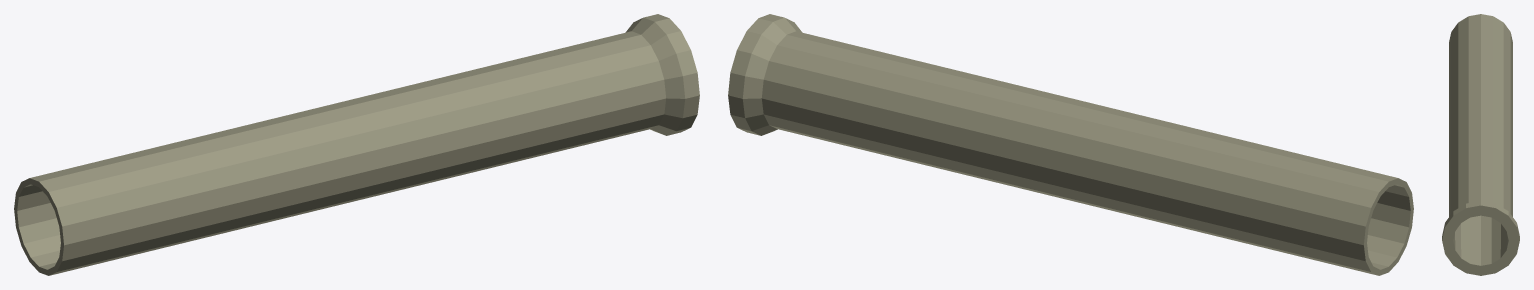
3 renders of one model, left to right at view 1: azimuth 30°, elevation 25°; view 2: azimuth 150°, elevation 25°; view 3: azimuth 270°, elevation 25°, orthographic. The views are drawn at different scales.
Parts seen in each view (by area): view 1: Tube; view 2: Tube; view 3: Tube.
Boxes of the visible parts, <box> form: Tube: <box>14,14,699,275</box>; Tube: <box>728,14,1413,275</box>; Tube: <box>1442,14,1519,275</box>.
Size of the model in its own units: 15.38 by 2.56 by 2.56.
